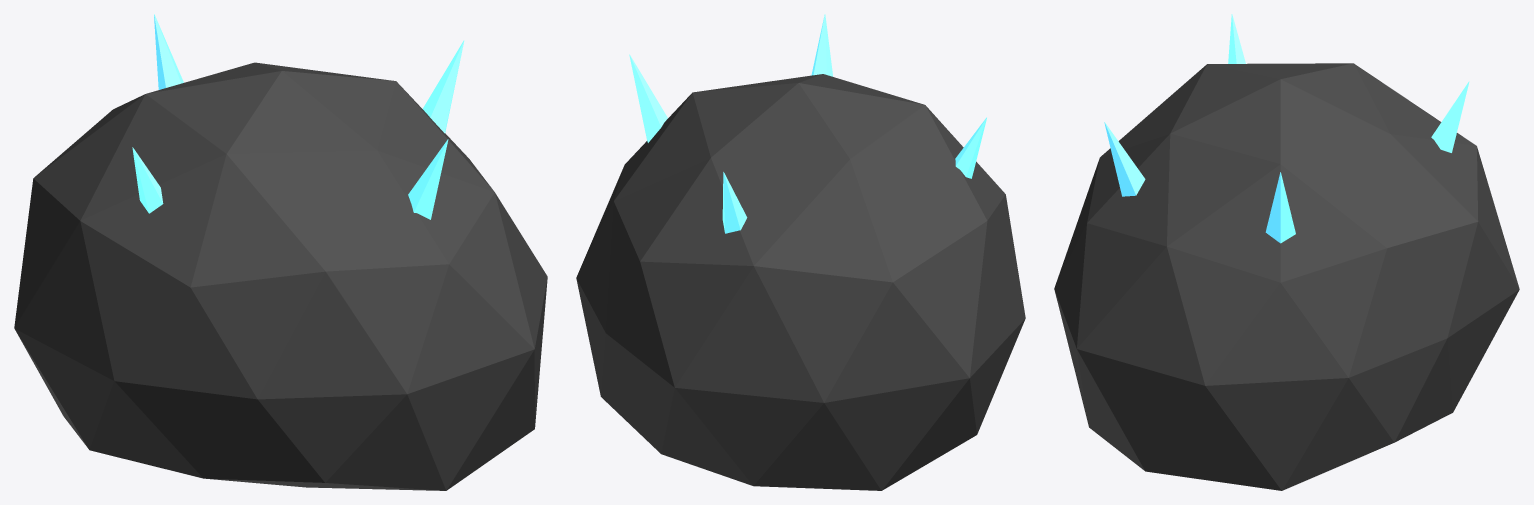
File: prop_ore.glb
3 renders of one model, left to right at view 1: azimuth 30°, elevation 25°; view 2: azimuth 150°, elevation 25°; view 3: azimuth 270°, elevation 25°, orthographic. The views are drawn at different scales.
Visible parts, largest first — view 1: rock, cry, cry.003, cry.001, cry.002; view 2: rock, cry, cry.001, cry.002, cry.003; view 3: rock, cry.003, cry, cry.001.
Part boxes in pixels (x1=…): rock: x1=14, y1=62, x2=547, y2=490; cry: x1=423, y1=40, x2=464, y2=133; cry.003: x1=408, y1=139, x2=448, y2=219; cry.001: x1=154, y1=14, x2=183, y2=89; cry.002: x1=132, y1=147, x2=163, y2=213; rock: x1=576, y1=74, x2=1025, y2=490; cry: x1=629, y1=54, x2=667, y2=142; cry.001: x1=722, y1=172, x2=747, y2=233; cry.002: x1=955, y1=117, x2=986, y2=178; cry.003: x1=811, y1=14, x2=833, y2=76; rock: x1=1054, y1=63, x2=1519, y2=490; cry.003: x1=1104, y1=122, x2=1145, y2=196; cry: x1=1265, y1=172, x2=1295, y2=243; cry.001: x1=1431, y1=81, x2=1469, y2=152.
Size of the model in its own units: 0.8648 by 0.6754 by 0.8567.
